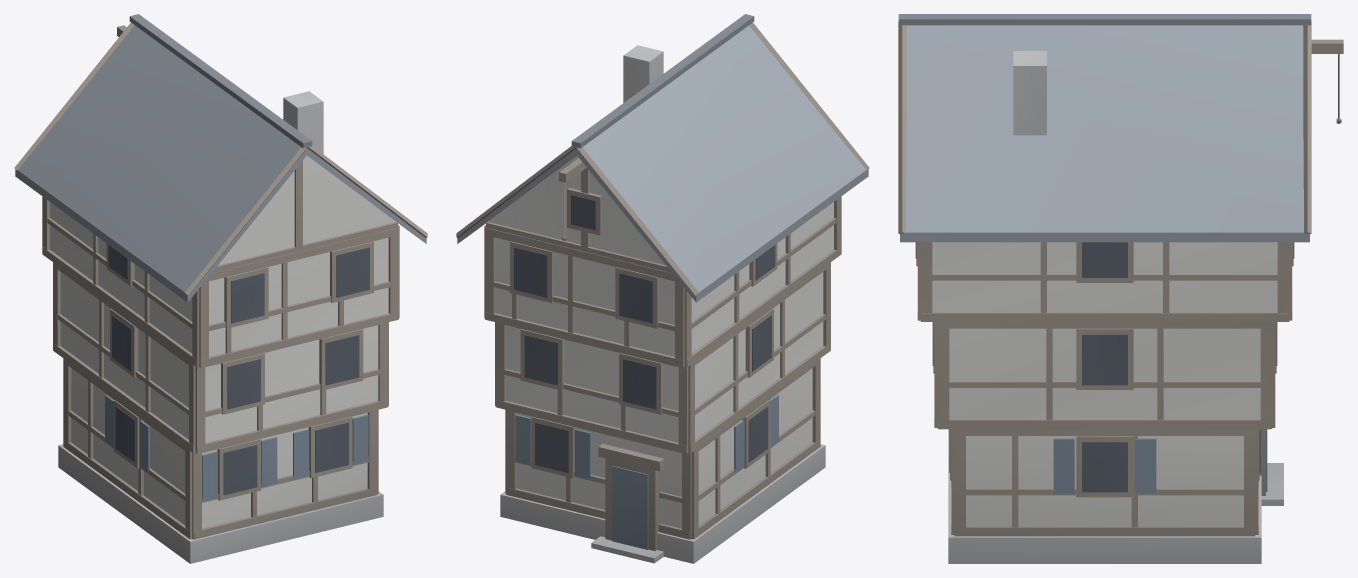
File: townhouse_brine.gltf
3 views of the same model, side by side, from view 1: azimuth 30°, elevation 25°; view 2: azimuth 150°, elevation 25°; view 3: azimuth 270°, elevation 25° (orthographic). The views are drawn at different scales.
Parts seen in each view (by area): view 1: Body; view 2: Body; view 3: Body.
Part boxes in pixels (x1,y1,x2,y2): Body: (14,14,427,563); Body: (456,14,869,563); Body: (898,14,1343,563).
Size of the model in its own units: 6.92 by 11.24 by 9.24.
